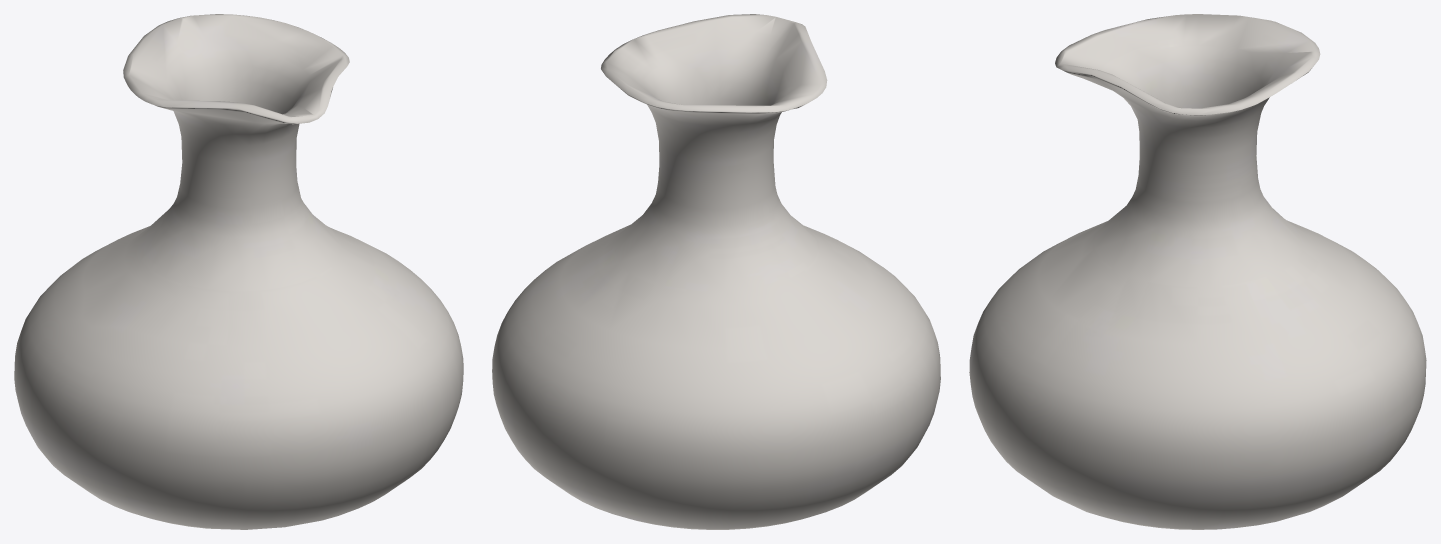
Rendered from ph-ceramic-vase-01.glb.
The picture shows the model from 3 angles, left to right: view 1: azimuth 30°, elevation 25°; view 2: azimuth 150°, elevation 25°; view 3: azimuth 270°, elevation 25°; orthographic projection.
Parts seen in each view (by area): view 1: ceramic_vase_01; view 2: ceramic_vase_01; view 3: ceramic_vase_01.
Boxes of the visible parts, x1=… form: ceramic_vase_01: x1=14, y1=14, x2=463, y2=529; ceramic_vase_01: x1=492, y1=14, x2=940, y2=529; ceramic_vase_01: x1=969, y1=14, x2=1426, y2=529.
Bounding box in the file's own units: 1 × 1 × 0.9995.
Materials: 1 (1 with a texture image).
